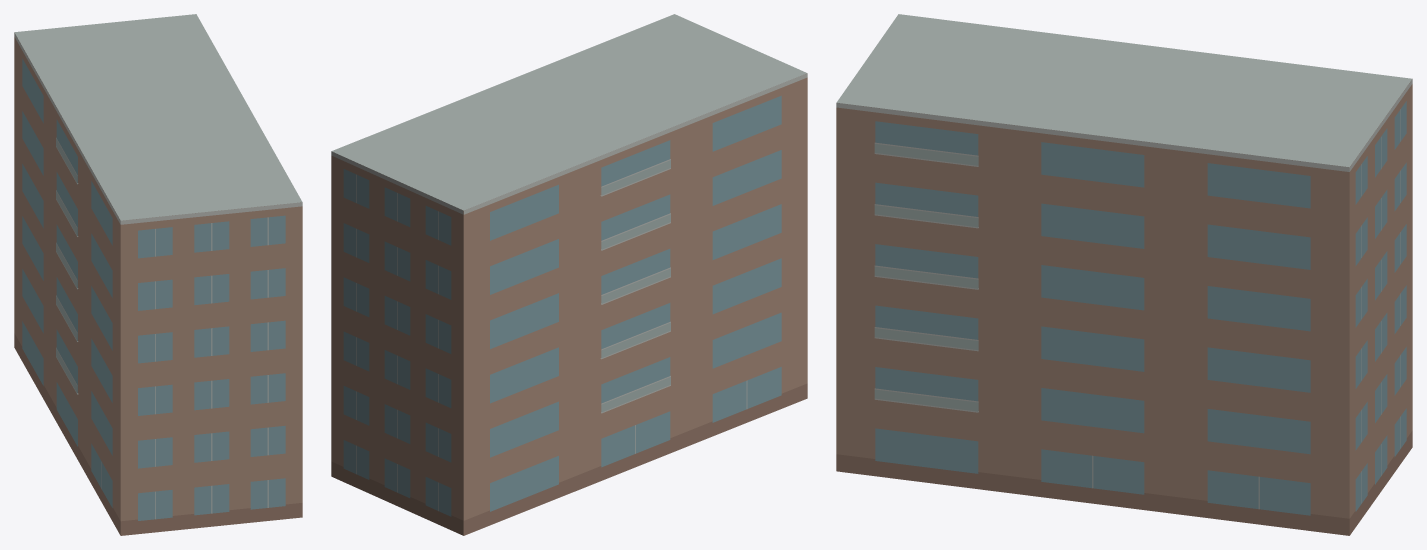
File: survey-upis-32998301.glb
3 views of the same model, side by side, from view 1: azimuth 30°, elevation 25°; view 2: azimuth 150°, elevation 25°; view 3: azimuth 270°, elevation 25° (orthographic). The views are drawn at different scales.
Visible parts, largest first — view 1: survey-upis-32998301.tmp; view 2: survey-upis-32998301.tmp; view 3: survey-upis-32998301.tmp.
Boxes of the visible parts, <box> form: survey-upis-32998301.tmp: <box>14,14,302,535</box>; survey-upis-32998301.tmp: <box>331,14,807,535</box>; survey-upis-32998301.tmp: <box>836,14,1412,535</box>.
Bounding box in the file's own units: 16.59 × 18.6 × 26.35.
